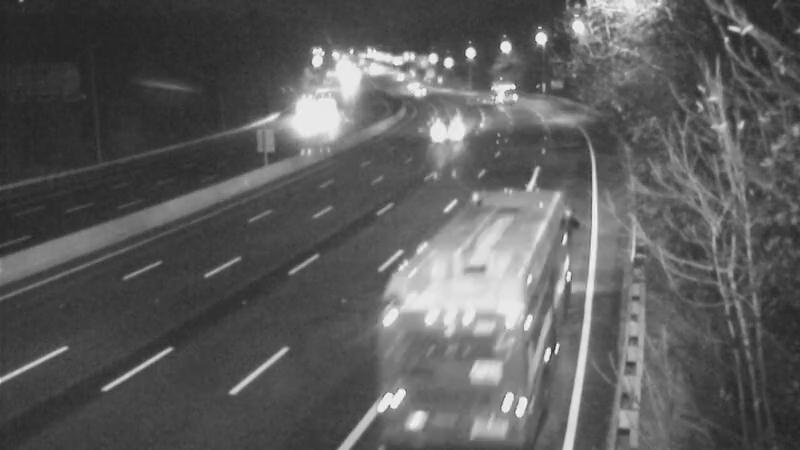vehicle: (434, 240, 514, 320), (394, 64, 444, 114), (468, 64, 518, 114), (424, 103, 474, 153), (281, 95, 331, 145), (303, 87, 353, 137)
